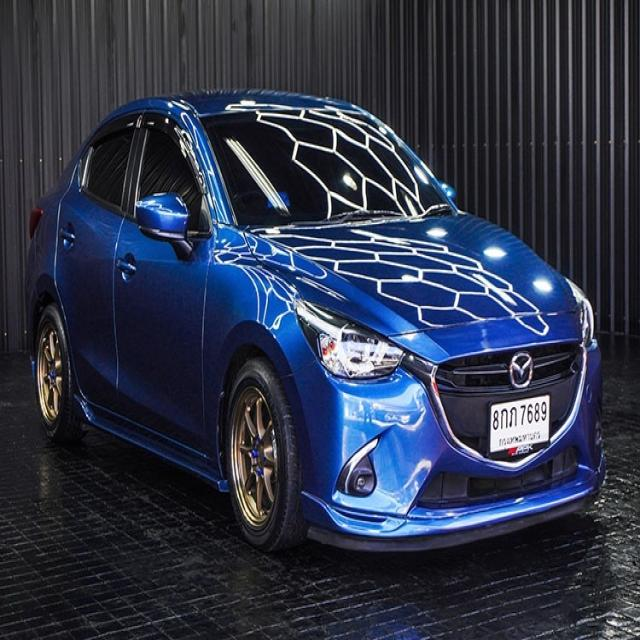license_plate: (484, 388, 555, 463)
